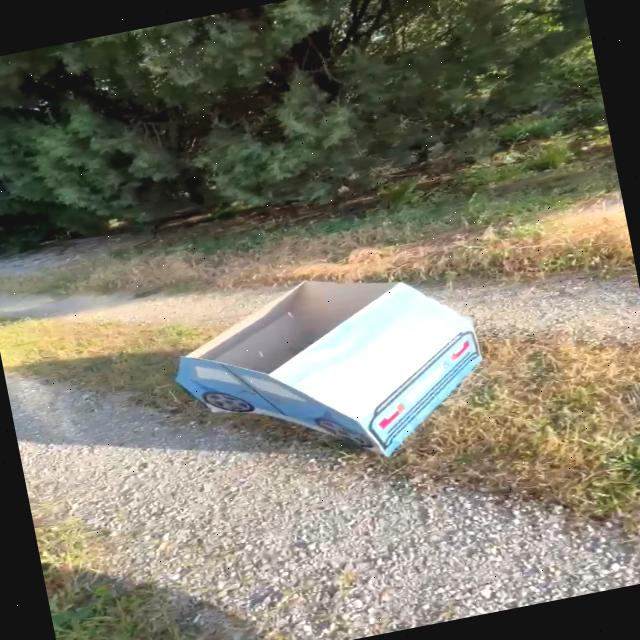blue_car: (118, 207, 531, 514)
